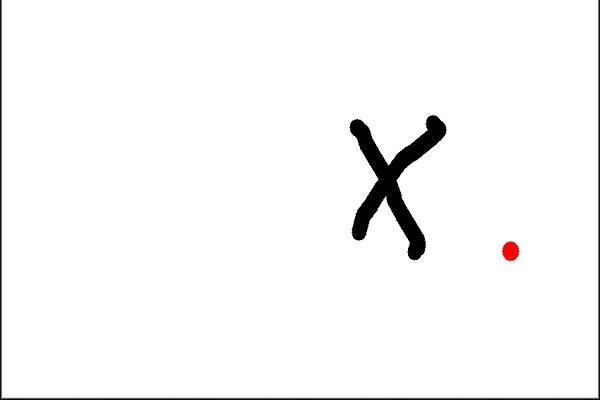Z: (318, 96, 464, 292)
